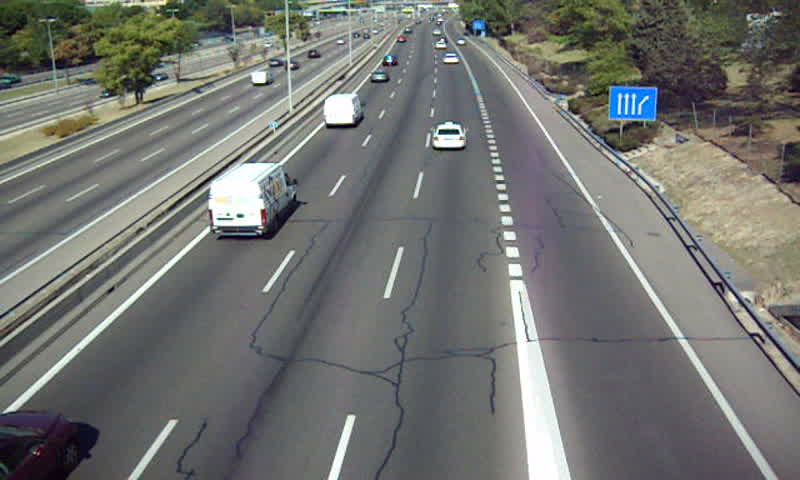car: (432, 123, 466, 150), (368, 70, 389, 85), (442, 53, 460, 66), (382, 53, 397, 68)
van: (207, 163, 299, 238), (323, 94, 362, 124)
